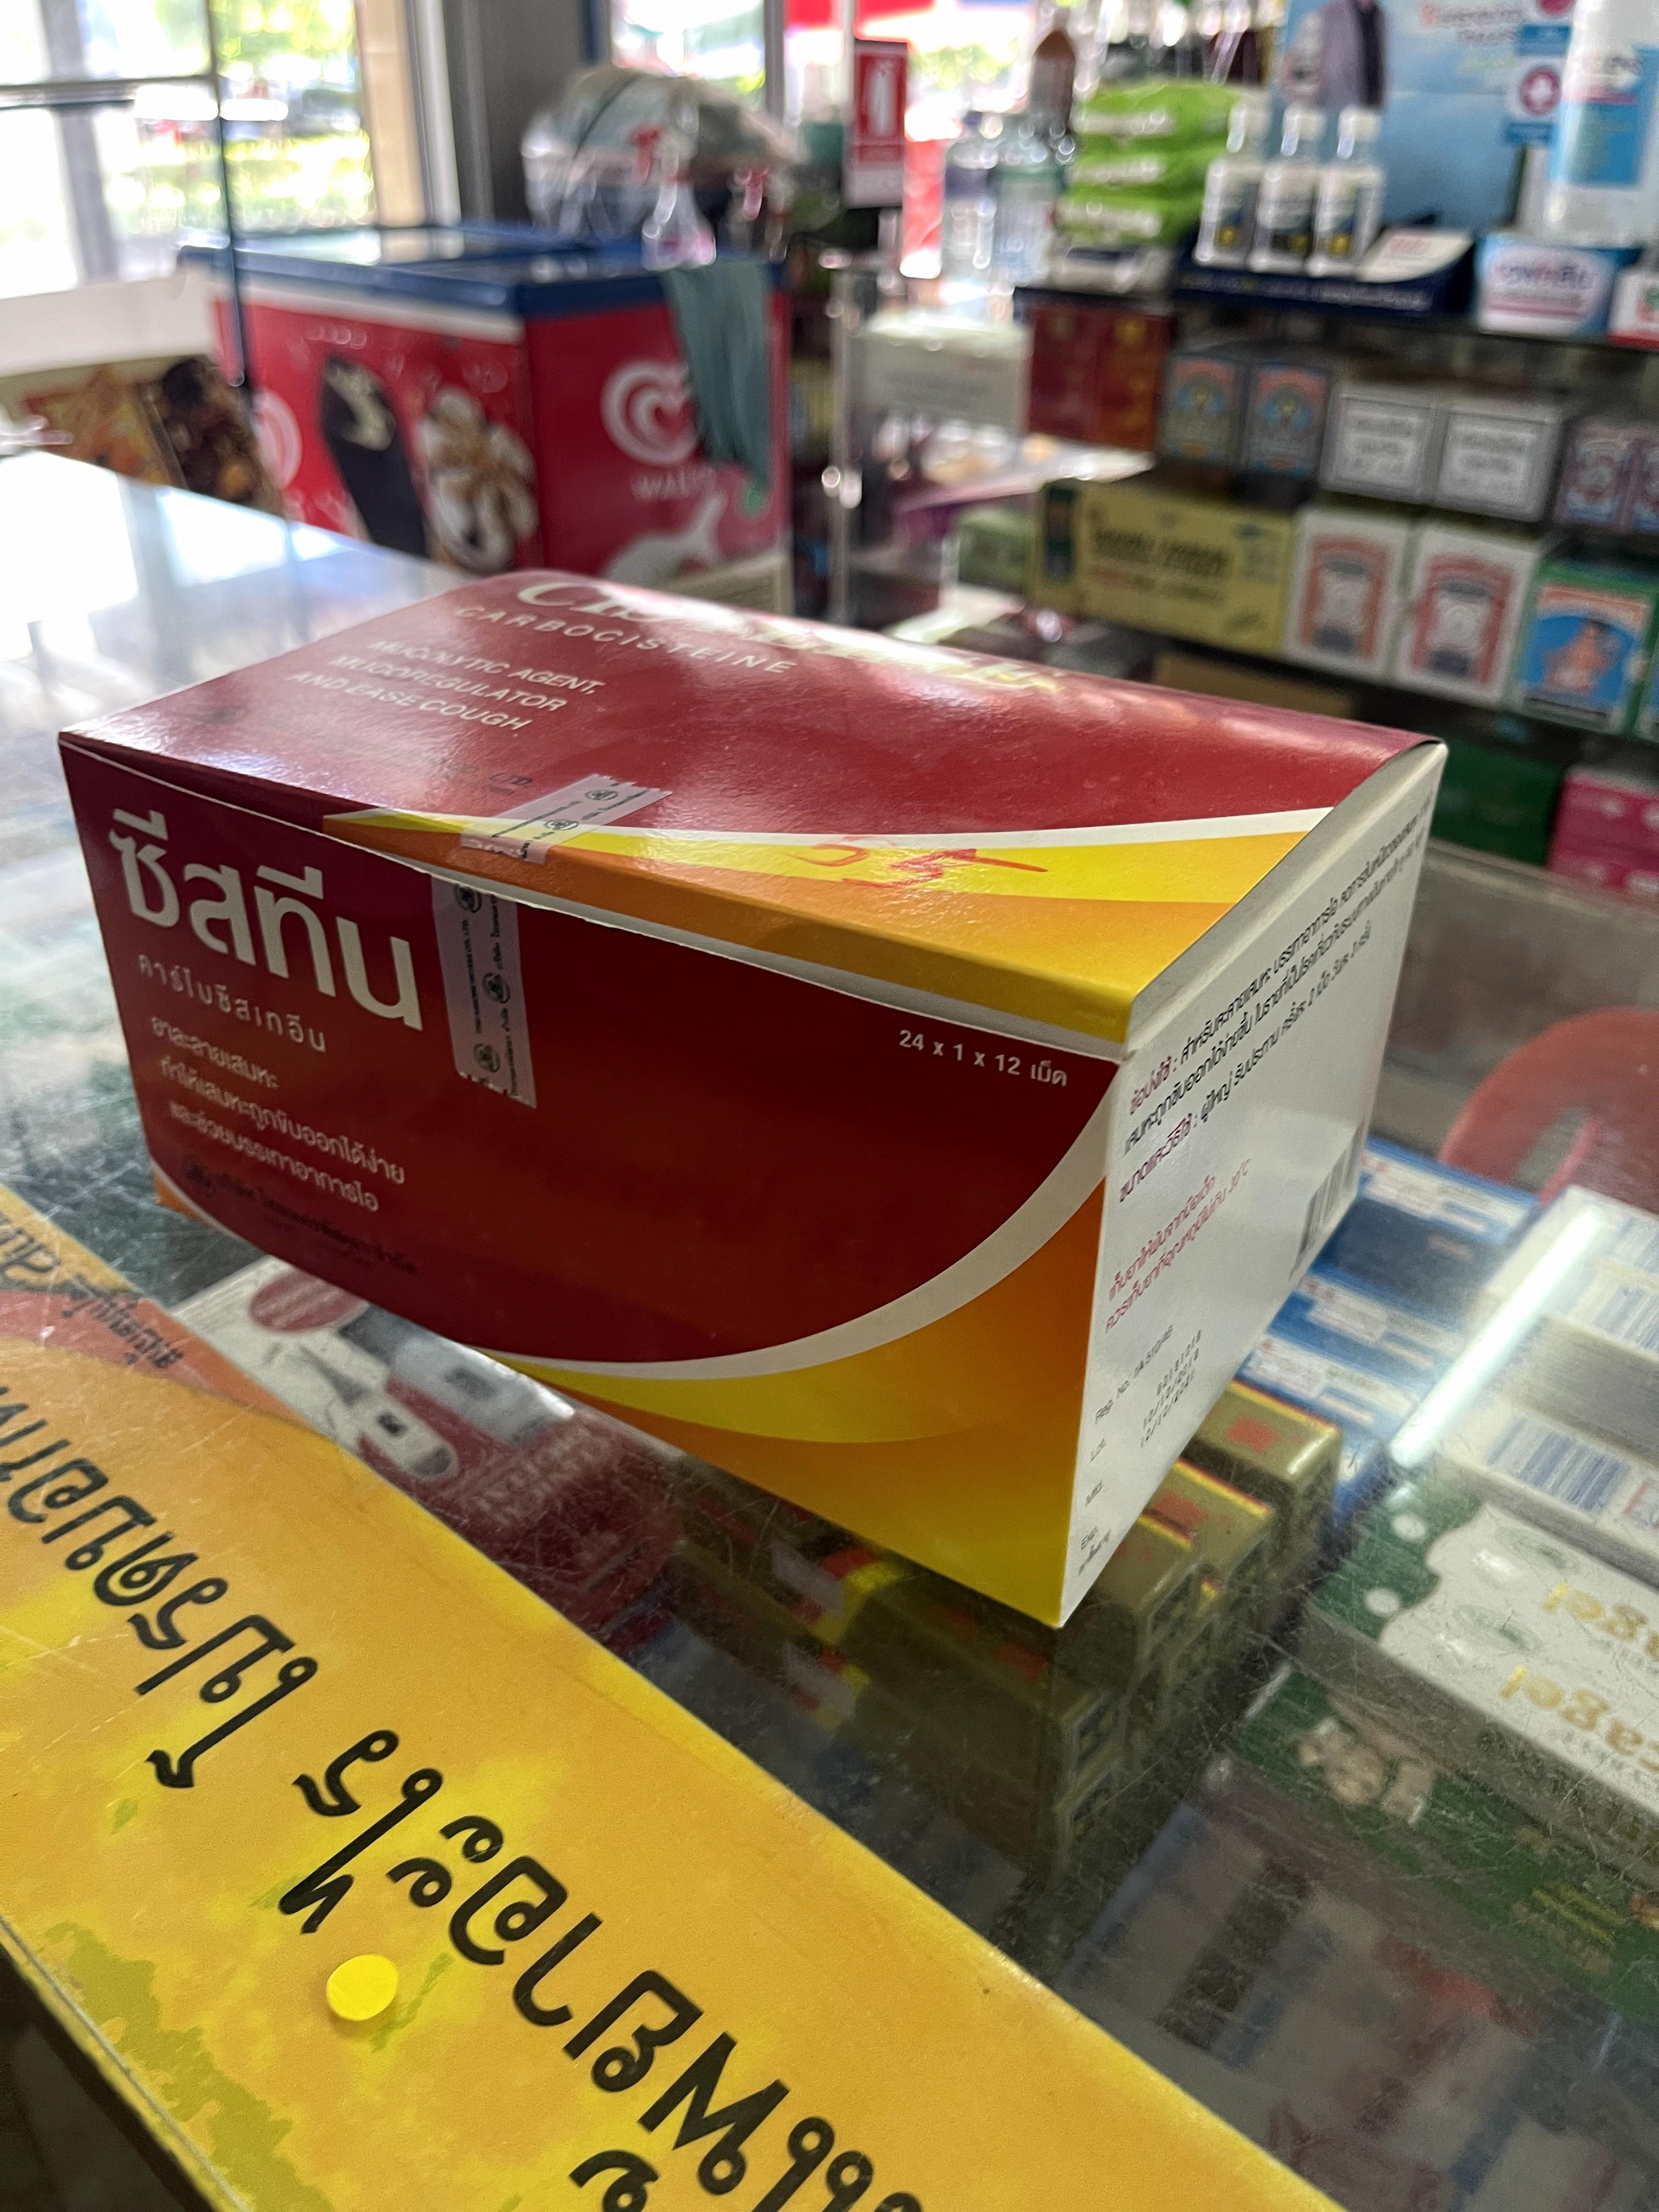Cisteine_Box: (66, 573, 1432, 1622)
